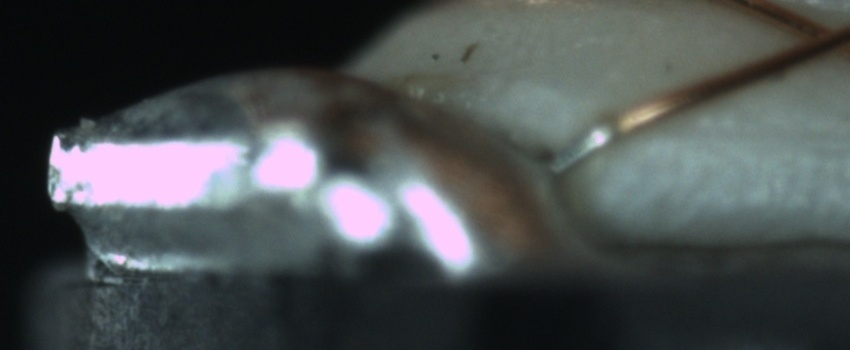CL: (777, 4, 849, 64)
DL: (655, 98, 849, 162)
TS: (545, 121, 617, 176)
TTCW: (538, 97, 661, 182)
